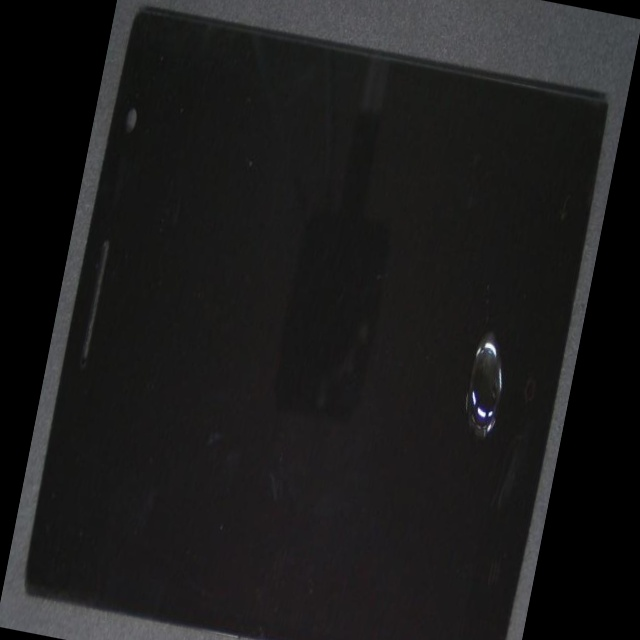oil: (271, 161, 605, 540)
